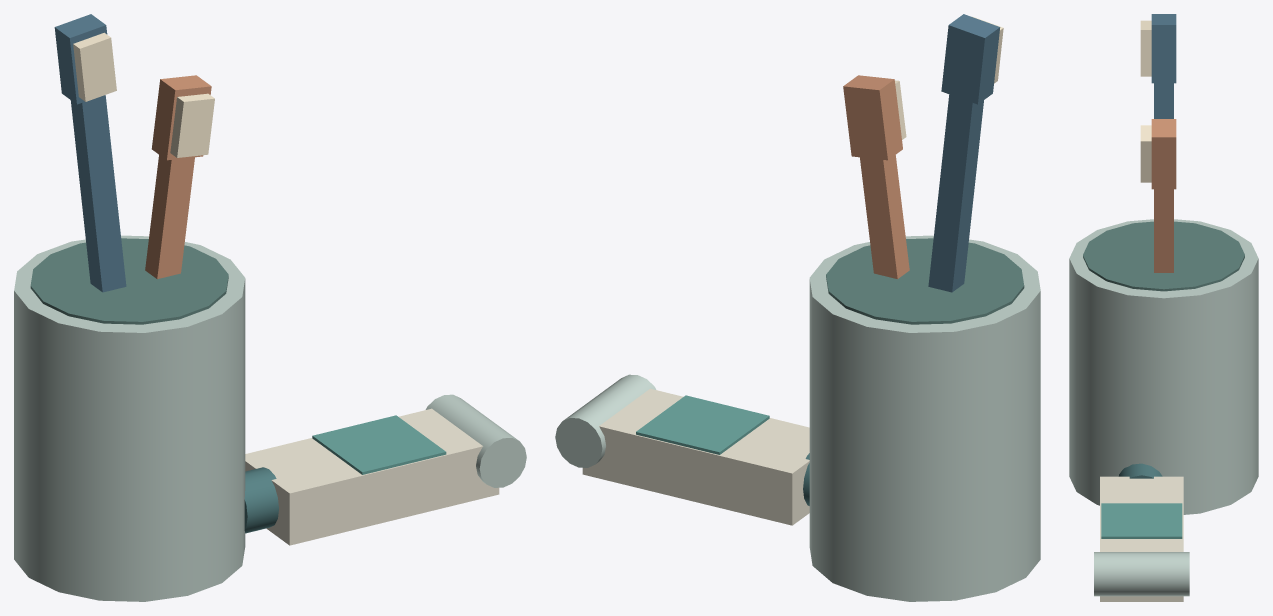
File: evening-wash-kit-v1.glb
3 renders of one model, left to right at view 1: azimuth 30°, elevation 25°; view 2: azimuth 150°, elevation 25°; view 3: azimuth 270°, elevation 25°, orthographic. The views are drawn at different scales.
Visible parts, largest first — view 1: Speckled-cup, Folded-tube, Brush-handle (×2), Cup-opening, Bristles (×2), Mint-band, Brush-head (×2), Rolled-end, Tube-cap; view 2: Speckled-cup, Folded-tube, Brush-handle (×2), Cup-opening, Brush-head (×2), Mint-band, Rolled-end; view 3: Speckled-cup, Cup-opening, Rolled-end, Folded-tube, Brush-head (×2), Mint-band, Brush-handle (×2), Bristles (×2), Tube-cap.
Part boxes in pixels (<box>): Speckled-cup: <box>14,235,245,601</box>; Folded-tube: <box>245,408,499,545</box>; Brush-handle (×2): <box>70,95,194,292</box>; Cup-opening: <box>30,238,228,324</box>; Bristles (×2): <box>73,32,214,157</box>; Mint-band: <box>312,415,446,474</box>; Brush-head (×2): <box>54,14,211,160</box>; Rolled-end: <box>425,394,526,487</box>; Tube-cap: <box>244,467,278,533</box>; Speckled-cup: <box>809,235,1040,601</box>; Folded-tube: <box>582,388,809,525</box>; Brush-handle (×2): <box>860,94,983,292</box>; Cup-opening: <box>826,238,1024,324</box>; Brush-head (×2): <box>843,14,1000,160</box>; Mint-band: <box>636,395,769,454</box>; Rolled-end: <box>555,374,656,467</box>; Speckled-cup: <box>1069,219,1258,514</box>; Cup-opening: <box>1083,221,1244,291</box>; Rolled-end: <box>1094,552,1189,596</box>; Folded-tube: <box>1100,476,1183,601</box>; Brush-head (×2): <box>1151,14,1176,189</box>; Mint-band: <box>1101,503,1182,538</box>; Brush-handle (×2): <box>1154,83,1173,272</box>; Bristles (×2): <box>1140,20,1151,182</box>; Tube-cap: <box>1118,463,1162,478</box>.
Size of the model in its own units: 0.1735 by 0.1972 by 0.077.
